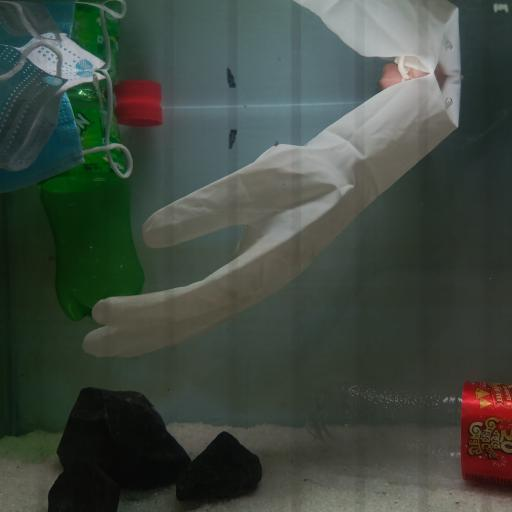bottle_cap: (116, 102, 164, 128)
glove: (79, 70, 460, 359)
mask: (0, 32, 134, 194)
plastic_bottle: (39, 84, 147, 322), (302, 378, 512, 490)
